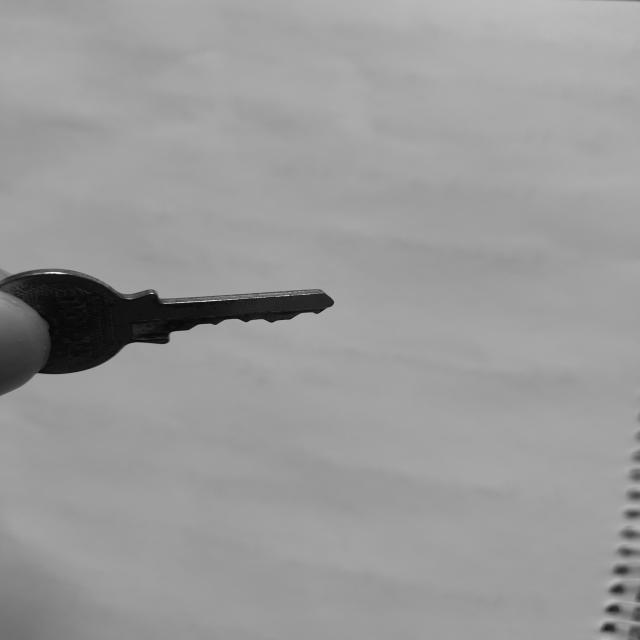key: (0, 269, 333, 374)
